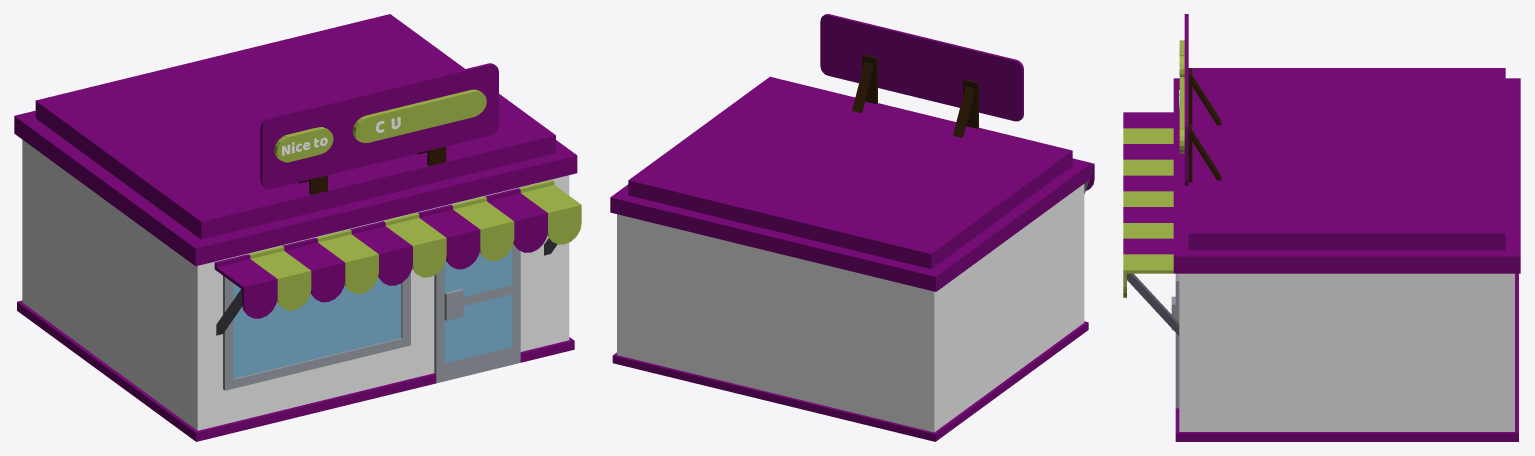
The model's file is pho-tiem-may.glb.
The picture shows the model from 3 angles, left to right: view 1: azimuth 30°, elevation 25°; view 2: azimuth 150°, elevation 25°; view 3: azimuth 270°, elevation 25°; orthographic projection. The views are drawn at different scales.
Visible parts, largest first — view 1: pho-tiem-may; view 2: pho-tiem-may; view 3: pho-tiem-may.
Boxes of the visible parts, box(x1,y1,x2,y2) form: pho-tiem-may: box(14, 14, 581, 441); pho-tiem-may: box(610, 14, 1094, 441); pho-tiem-may: box(1123, 14, 1520, 441).
Size of the model in its own units: 28.72 by 21.6 by 27.07.
